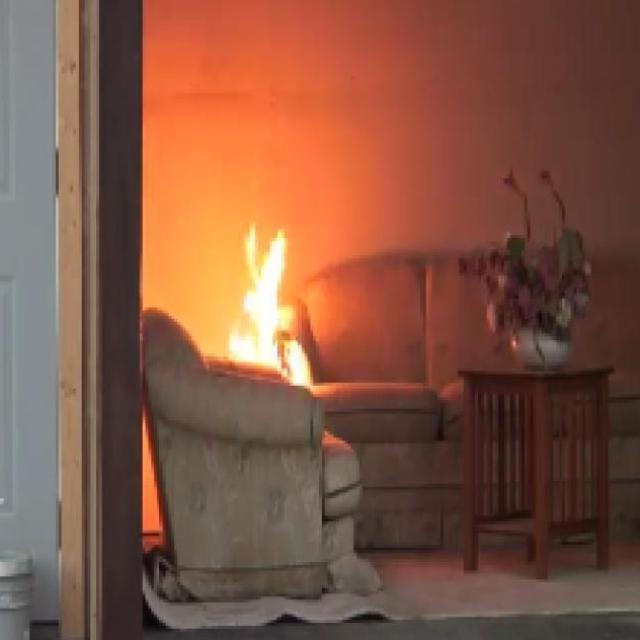smoke: (225, 220, 318, 386)
